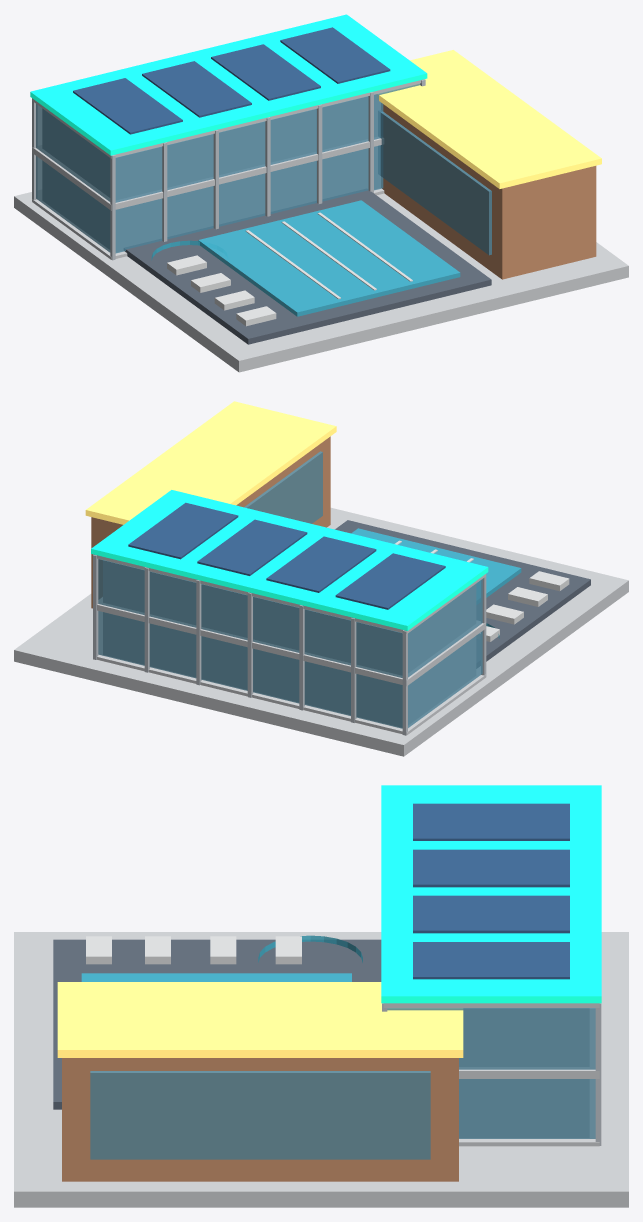
Rendered from recovery_hydro_hub.master.glb.
3 renders of one model, top to bottom at view 1: azimuth 30°, elevation 25°; view 2: azimuth 150°, elevation 25°; view 3: azimuth 270°, elevation 25°, orthographic. The views are drawn at different scales.
Visible parts, largest first — view 1: recovery_hydro_hub_master; view 2: recovery_hydro_hub_master; view 3: recovery_hydro_hub_master.
Part boxes in pixels (bbox=[...]): recovery_hydro_hub_master: bbox=[14, 14, 628, 372]; recovery_hydro_hub_master: bbox=[14, 401, 628, 756]; recovery_hydro_hub_master: bbox=[14, 785, 628, 1207].
Bounding box in the file's own units: 2.82 × 0.855 × 2.82.
